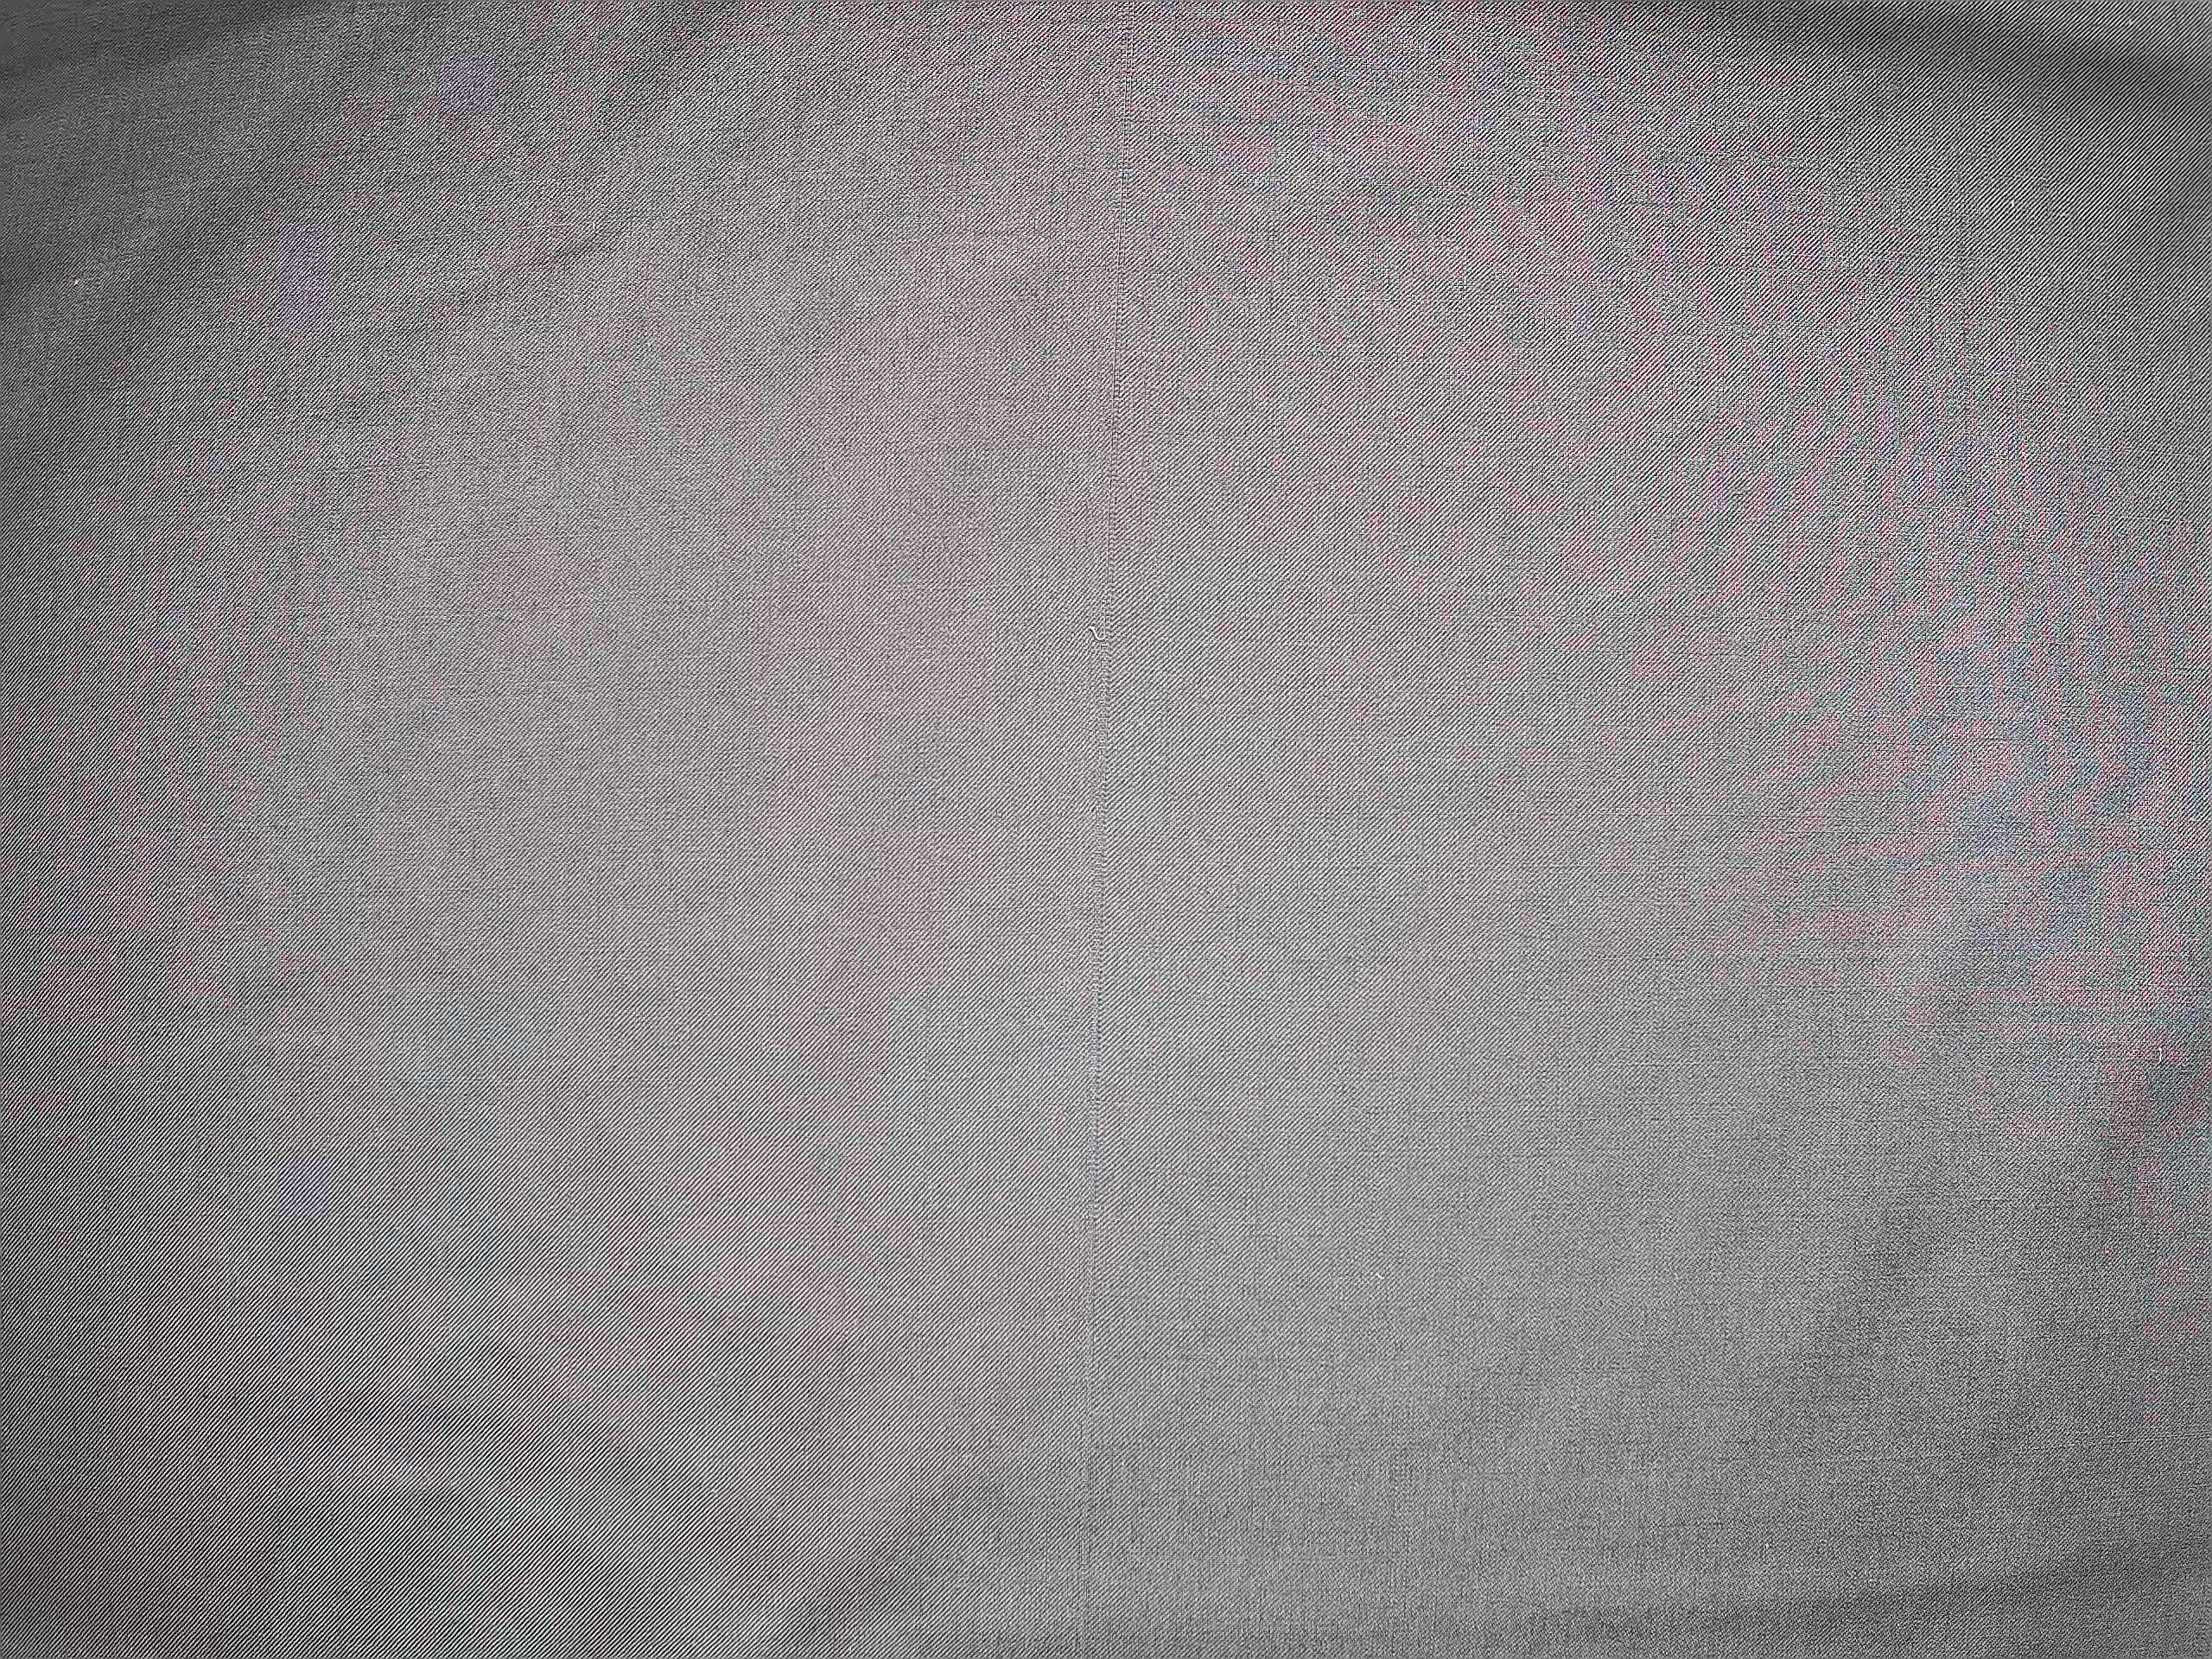lacking-warp: (1075, 17, 1137, 1638)
